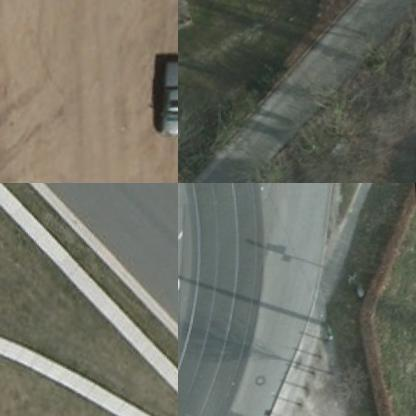car: (156, 59, 177, 142)
